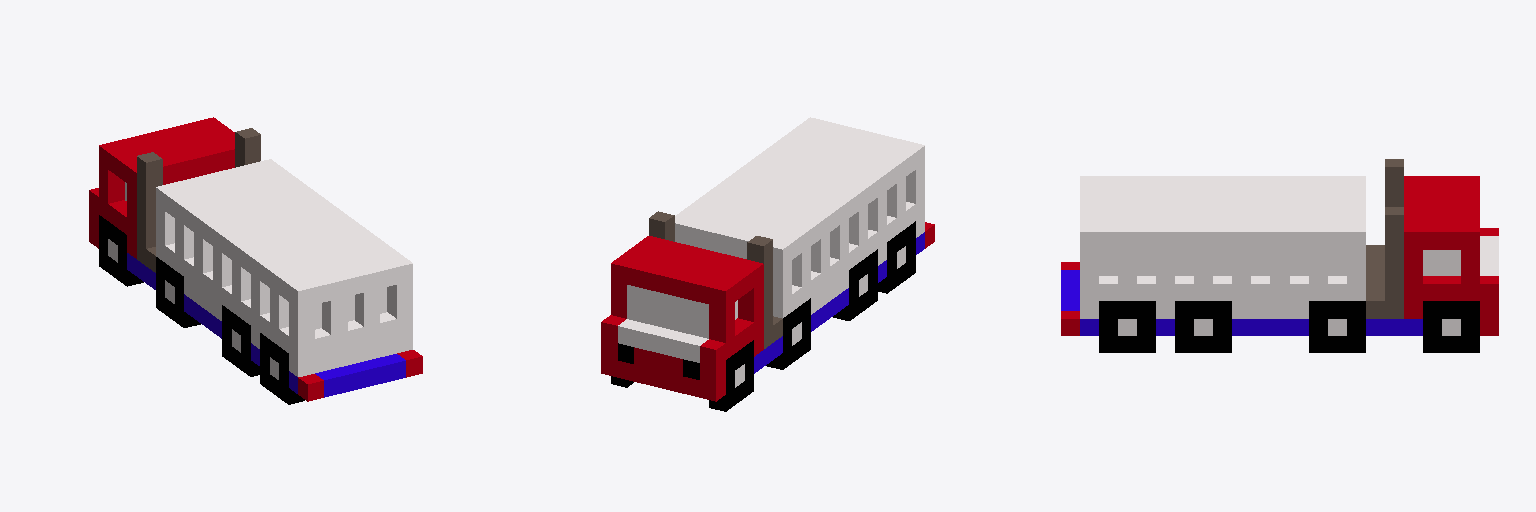
The picture shows the model from 3 angles: view 1: azimuth 30°, elevation 25°; view 2: azimuth 150°, elevation 25°; view 3: azimuth 270°, elevation 25°; orthographic projection.
Visible parts, largest first — view 1: Model; view 2: Model; view 3: Model.
Boxes of the visible parts, box(x1,y1,x2,y2) form: Model: box(89, 117, 422, 404); Model: box(601, 117, 934, 411); Model: box(1061, 159, 1498, 352).
Bounding box in the file's own units: 7 × 8 × 23.
Materials: 1 (1 with a texture image).